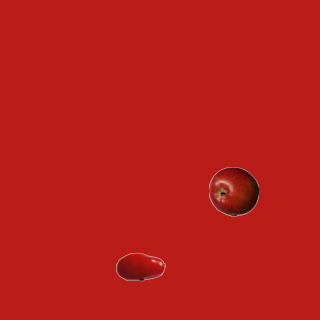Apple Braeburn: (208, 166, 258, 216)
Tomato 2: (115, 241, 165, 291)
